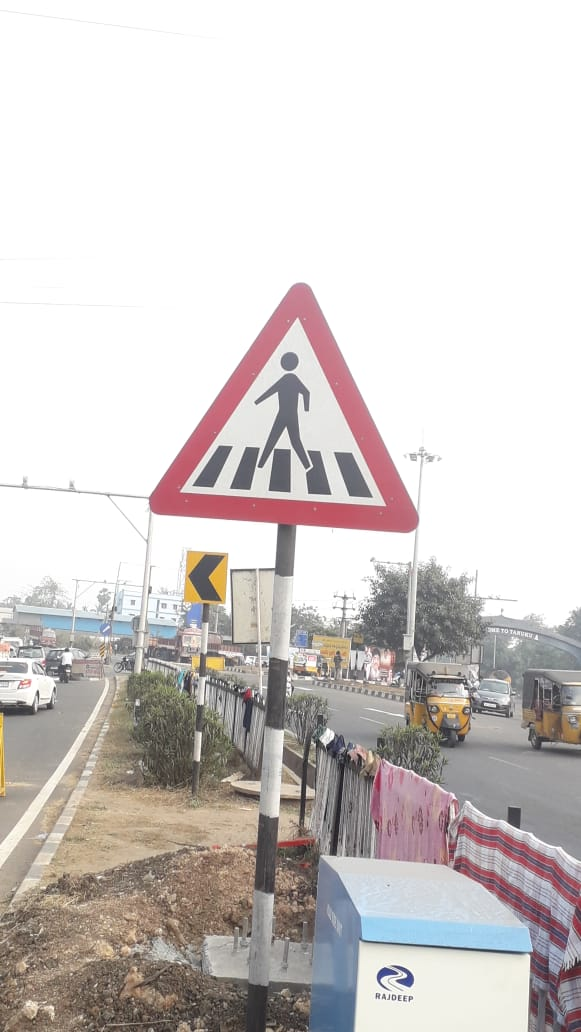pedestrian crossing: (149, 252, 423, 553)
